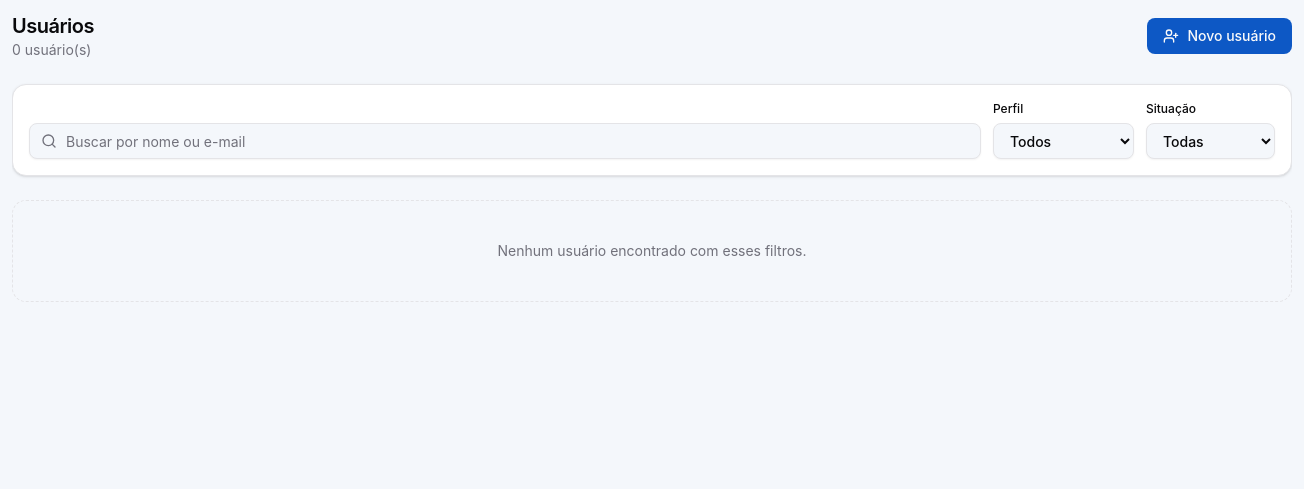
Scenario: cadastro pelo administrador › sem e-mail, mostra a senha provisória uma vez
Click the button "Novo usuário" at coordinates (1220, 36), box [1147, 18, 1292, 54]
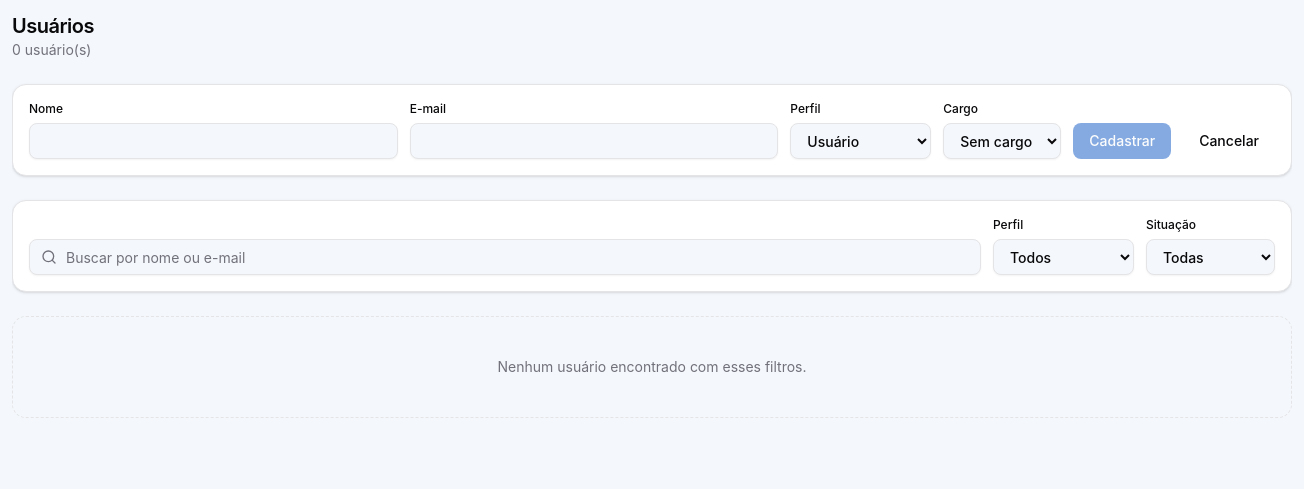
Type "Pessoa Nova" into the field labelled "Nome" at coordinates (213, 141), box [29, 123, 398, 159]
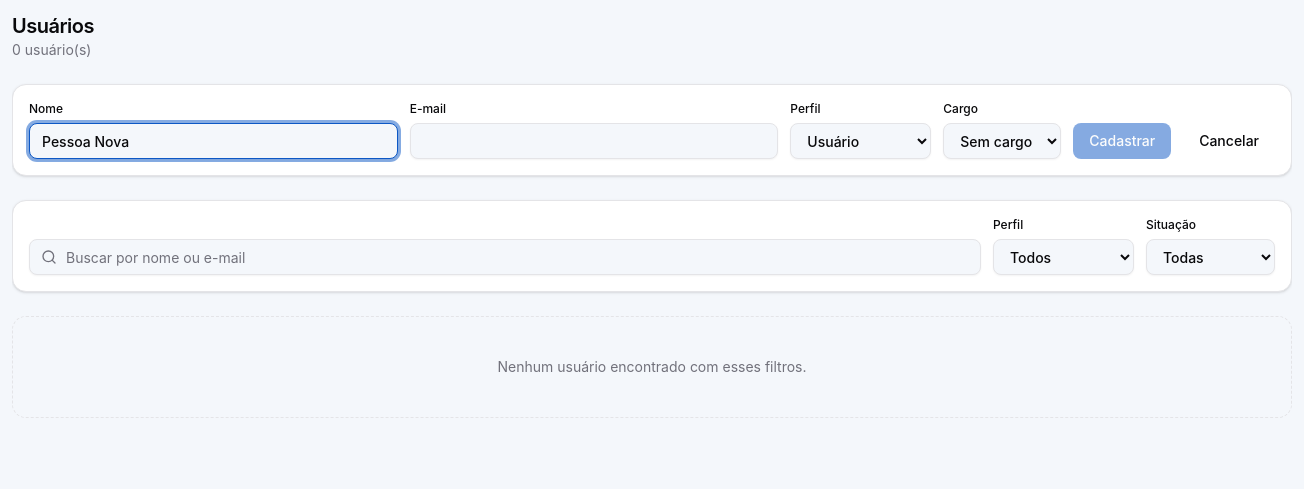
Type "pessoa@empresa.com" into the field labelled "E-mail" at coordinates (594, 141), box [410, 123, 778, 159]
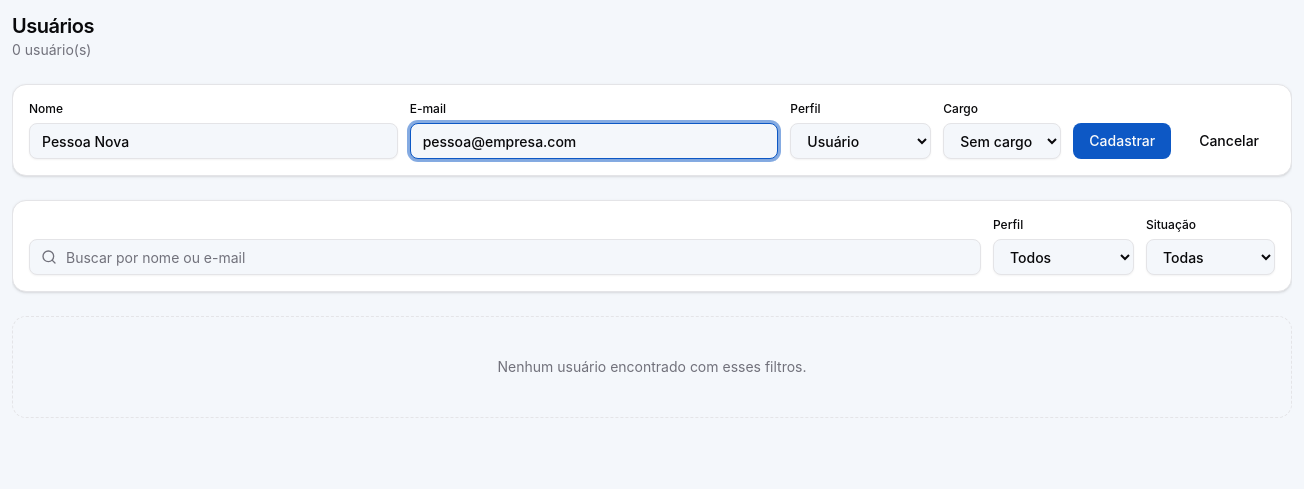
Click the button "Cadastrar" at coordinates (1122, 141), box [1073, 123, 1171, 159]
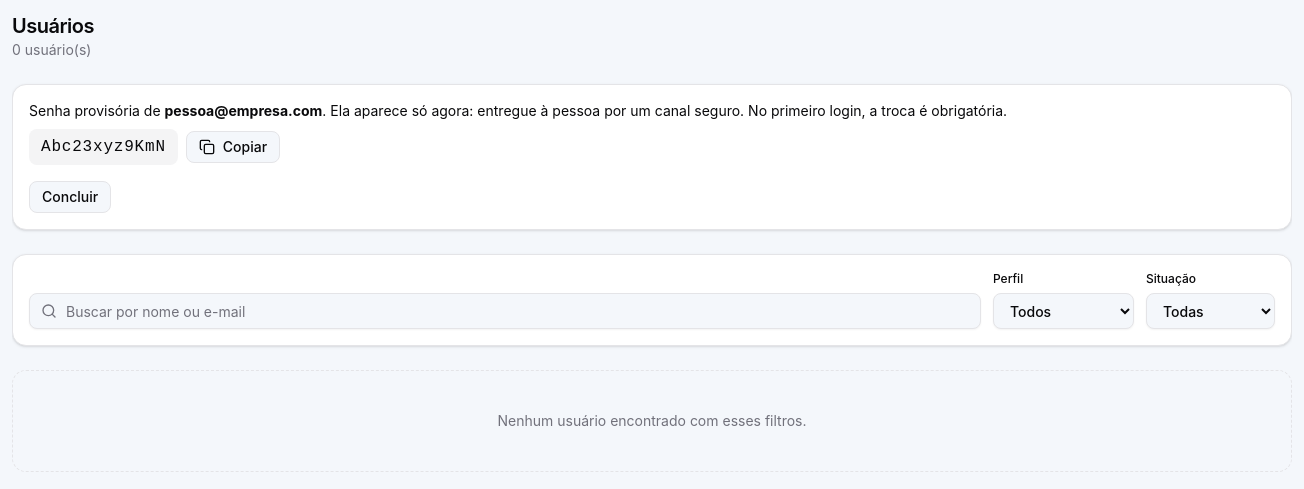
Expected: the text "Abc23xyz9KmN" is shown, [29, 129, 178, 165]
Expected: the text "aparece só agora" is shown, [322, 102, 1007, 119]
